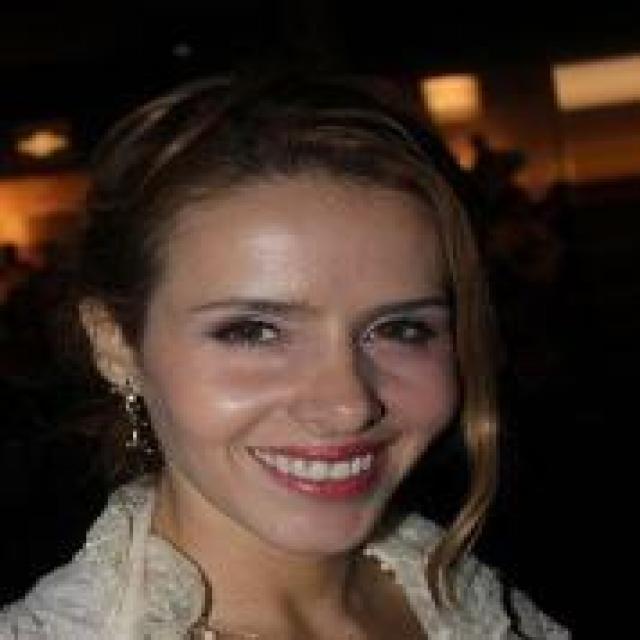nomask: (86, 79, 554, 564)
